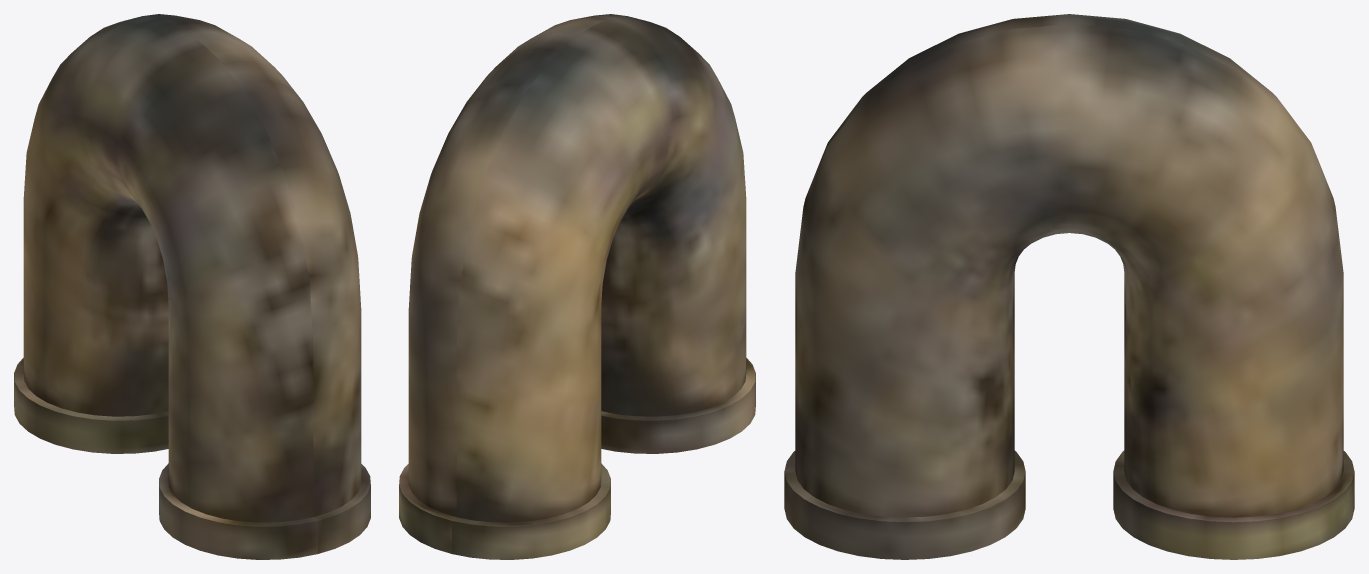
Rendered from pipe-fitting-large.glb.
3 renders of one model, left to right at view 1: azimuth 30°, elevation 25°; view 2: azimuth 150°, elevation 25°; view 3: azimuth 270°, elevation 25°, orthographic. The views are drawn at different scales.
Parts seen in each view (by area): view 1: pipe-fitting-large; view 2: pipe-fitting-large; view 3: pipe-fitting-large.
Boxes of the visible parts, x1,y1,x2,y2 form: pipe-fitting-large: (14, 14, 370, 559); pipe-fitting-large: (399, 14, 755, 559); pipe-fitting-large: (784, 14, 1354, 559).
Size of the model in its own units: 0.2811 by 0.6236 by 0.6645.
Materials: 1 (1 with a texture image).
